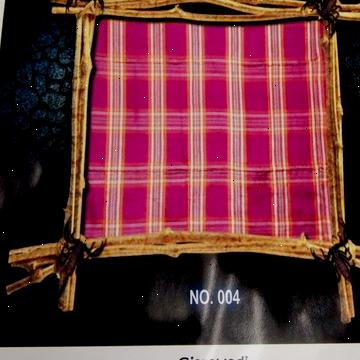malong: (78, 13, 340, 251)
